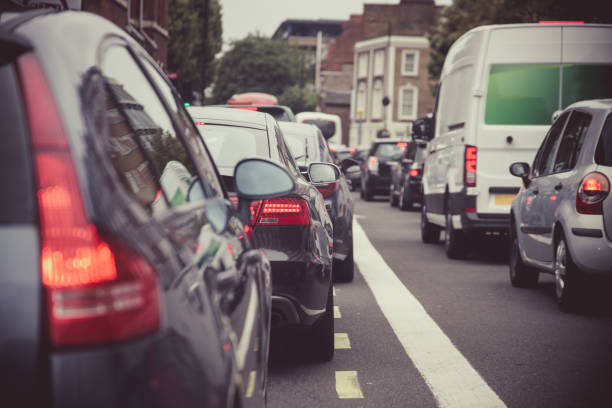bus: (435, 27, 612, 237)
car: (189, 105, 345, 348), (517, 113, 612, 294), (279, 120, 362, 256), (392, 143, 427, 206), (359, 135, 393, 188)
